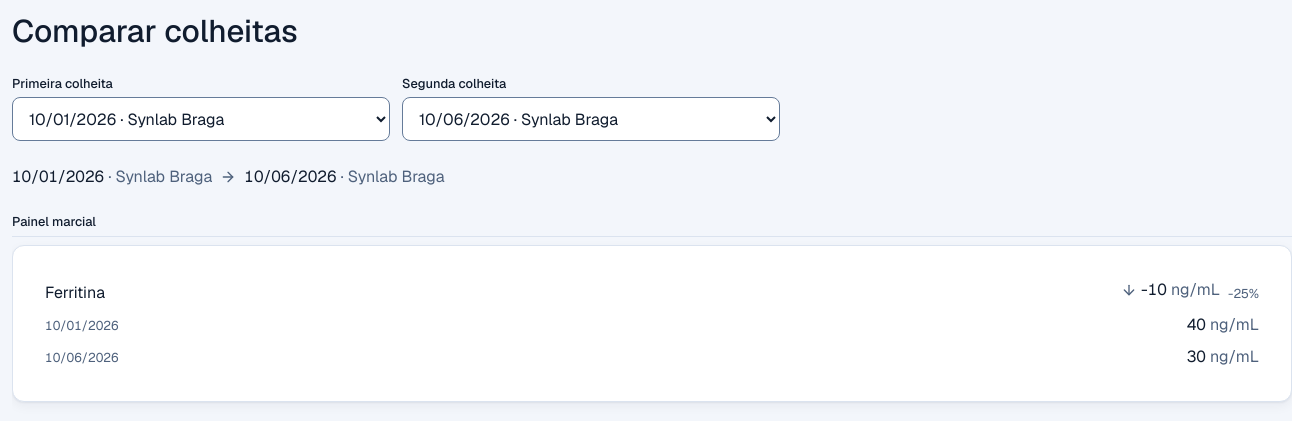
Test: ReportCompare › does not compare a collection with itself
Expected: the link "Ferritina" is shown, 45,281 -> 105,305
Select "10/06/2026 · Synlab Braga" in the dropdown labelled "Primeira colheita" at (201,119), box 12,97 -> 390,141
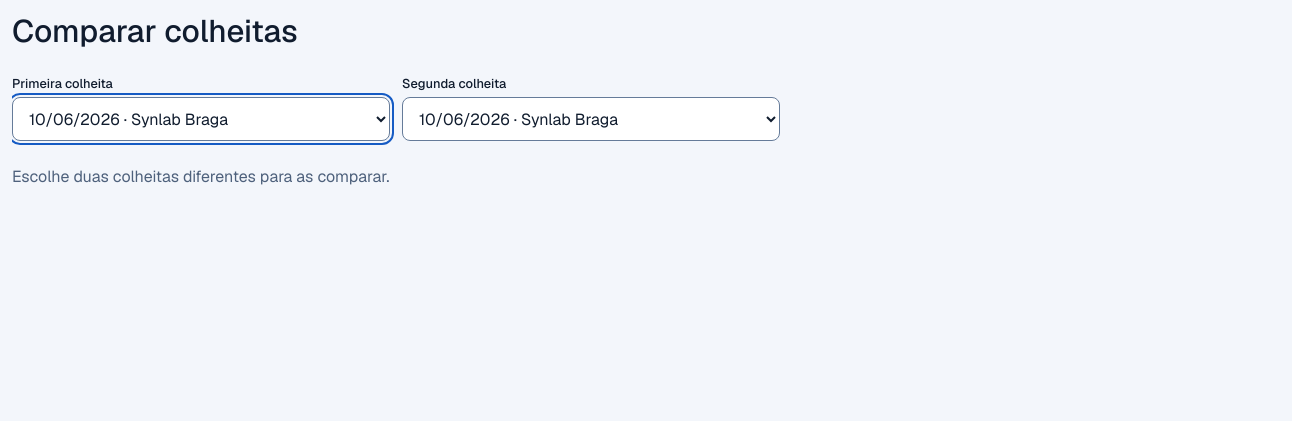
Result: the text "Escolhe duas colheitas diferentes para as comparar." is shown at 12,166 -> 390,187
Result: the link "Ferritina" is gone
